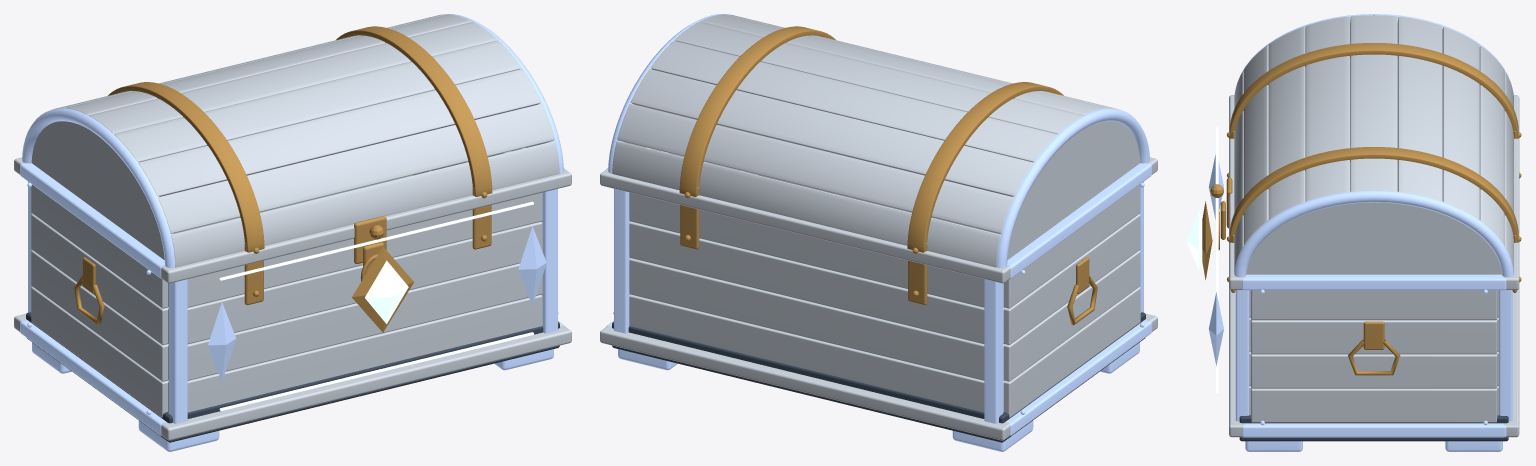
File: time-capsule.glb
The picture shows the model from 3 angles, left to right: view 1: azimuth 30°, elevation 25°; view 2: azimuth 150°, elevation 25°; view 3: azimuth 270°, elevation 25°; orthographic projection. The views are drawn at different scales.
Parts seen in each view (by area): view 1: Lid_Attic_warm_oak, Body_Attic_warm_oak, Body_Dark_worn_oak_edges, Lid_Aged_honey_brass, Lid_Dark_worn_oak_edges, Body_Interior_cedar, Body_Aged_honey_brass, Sky_Capsule_Moonstone, Sky_Capsule_Clasp_Setting, Sky_Capsule_Light_Seam.001, Sky_Capsule_Light_Seam, Sky_Capsule_Quartz_Inlay (+2 smaller); view 2: Body_Attic_warm_oak, Lid_Attic_warm_oak, Body_Dark_worn_oak_edges, Lid_Aged_honey_brass, Body_Interior_cedar, Lid_Dark_worn_oak_edges, Body_Aged_honey_brass, Body_Patinated_side_handles; view 3: Lid_Attic_warm_oak, Body_Attic_warm_oak, Body_Dark_worn_oak_edges, Lid_Aged_honey_brass, Lid_Dark_worn_oak_edges, Body_Interior_cedar, Body_Patinated_side_handles, Body_Aged_honey_brass, Sky_Capsule_Quartz_Inlay.001, Sky_Capsule_Moonstone, Sky_Capsule_Clasp_Setting, Sky_Capsule_Light_Seam.001 (+1 smaller).
Part boxes in pixels (box(x1,y1,x2,y2)): Lid_Attic_warm_oak: box(31, 14, 559, 267); Body_Attic_warm_oak: box(14, 151, 571, 440); Body_Dark_worn_oak_edges: box(20, 147, 565, 451); Lid_Aged_honey_brass: box(108, 26, 492, 252); Lid_Dark_worn_oak_edges: box(22, 14, 563, 267); Body_Interior_cedar: box(26, 312, 559, 442); Body_Aged_honey_brass: box(244, 187, 491, 305); Sky_Capsule_Moonstone: box(365, 260, 408, 323); Sky_Capsule_Clasp_Setting: box(352, 247, 413, 332); Sky_Capsule_Light_Seam.001: box(219, 201, 533, 280); Sky_Capsule_Light_Seam: box(219, 332, 533, 410); Sky_Capsule_Quartz_Inlay: box(208, 302, 236, 381); Body_Attic_warm_oak: box(600, 151, 1157, 440); Lid_Attic_warm_oak: box(612, 14, 1140, 267); Body_Dark_worn_oak_edges: box(606, 147, 1151, 451); Lid_Aged_honey_brass: box(679, 26, 1063, 252); Body_Interior_cedar: box(612, 312, 1145, 442); Lid_Dark_worn_oak_edges: box(608, 14, 1149, 267); Body_Aged_honey_brass: box(680, 187, 927, 305); Body_Patinated_side_handles: box(1067, 257, 1097, 325); Lid_Attic_warm_oak: box(1234, 15, 1513, 274); Body_Attic_warm_oak: box(1229, 95, 1519, 437); Body_Dark_worn_oak_edges: box(1235, 274, 1512, 451); Lid_Aged_honey_brass: box(1229, 43, 1518, 242); Lid_Dark_worn_oak_edges: box(1234, 14, 1513, 277); Body_Interior_cedar: box(1239, 415, 1508, 441); Body_Patinated_side_handles: box(1348, 321, 1400, 375); Body_Aged_honey_brass: box(1210, 131, 1521, 292); Sky_Capsule_Quartz_Inlay.001: box(1209, 292, 1223, 365); Sky_Capsule_Moonstone: box(1186, 211, 1202, 269); Sky_Capsule_Clasp_Setting: box(1202, 201, 1212, 279); Sky_Capsule_Light_Seam.001: box(1215, 127, 1218, 271).
Size of the model in its own units: 0.5784 by 0.382 by 0.4356.
